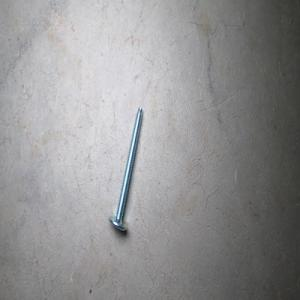Bolt: (108, 106, 143, 231)
